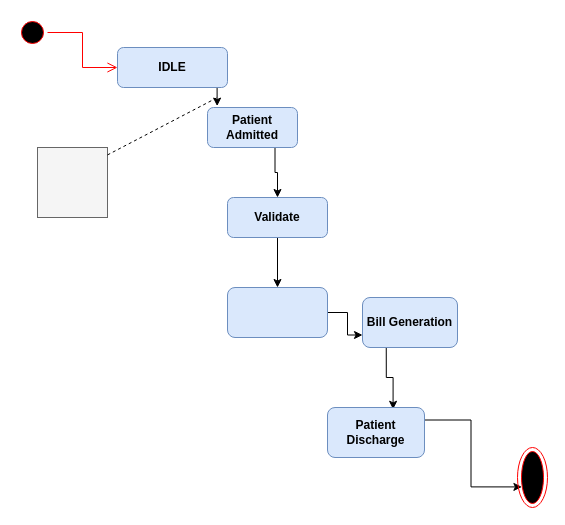
Some shapes in this 565 by 525 pixel diagram are drawn without their labels. The shapes that lost their labels are listed below. From the top down, each one's centre as x and y in pixels, then its label:
At [72,182]: "Event of patient".
At [277,312]: "Operated".
